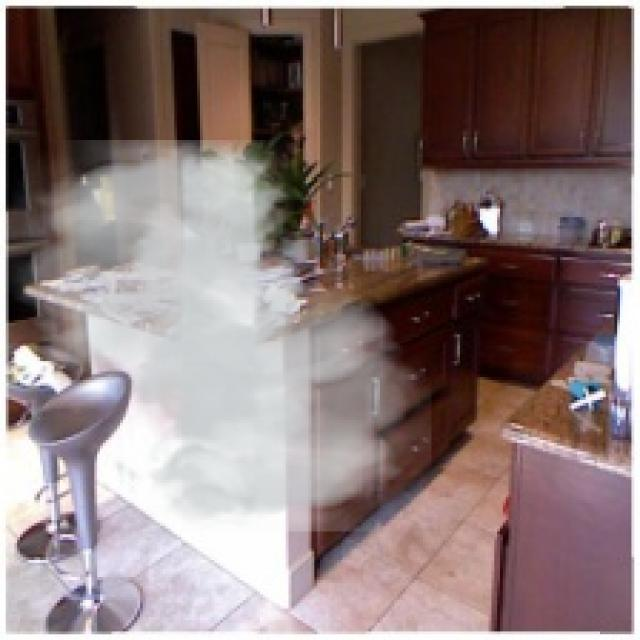Smoke: (6, 139, 432, 532)
